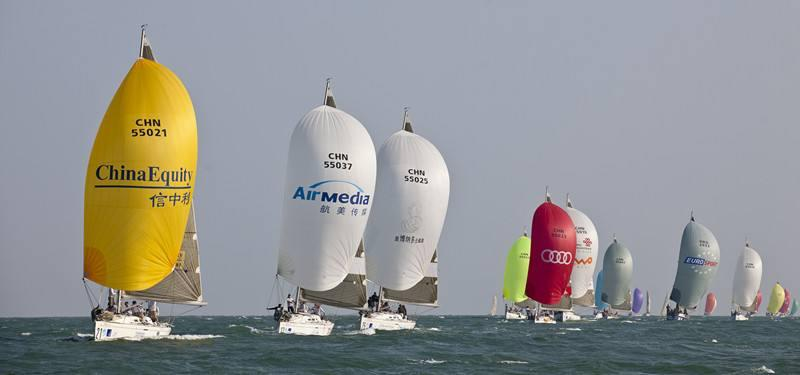fanchuan: (77, 23, 228, 341), (262, 78, 382, 334), (357, 105, 465, 337), (652, 211, 722, 325), (522, 186, 578, 328), (562, 195, 599, 322), (593, 232, 638, 325), (496, 229, 539, 326), (722, 241, 767, 325), (763, 281, 795, 325)
